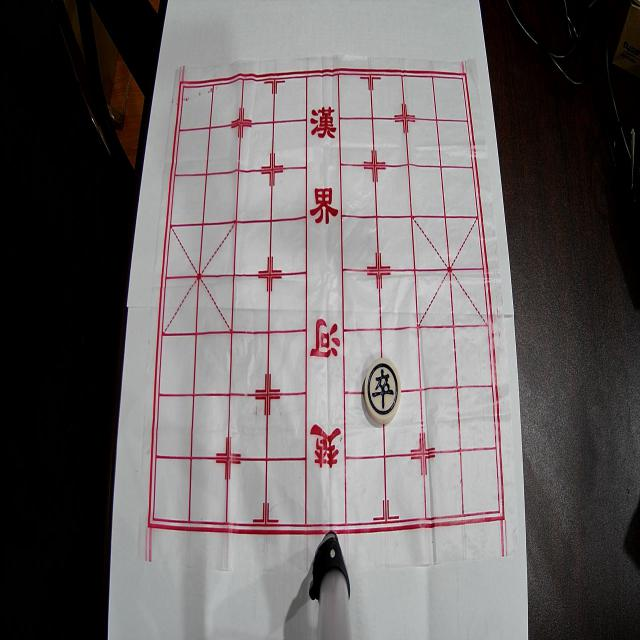black-soldier: (365, 358, 401, 424)
